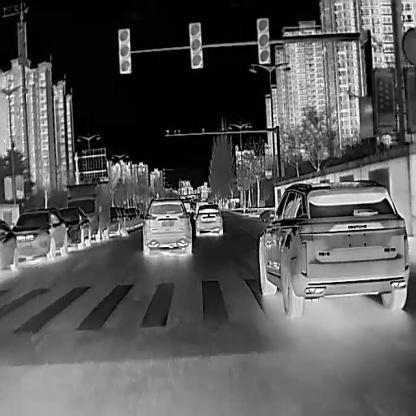car: (257, 177, 410, 318), (10, 205, 67, 261), (138, 195, 191, 253), (65, 180, 109, 240), (55, 204, 89, 247), (192, 202, 222, 235), (109, 205, 121, 234), (123, 206, 139, 223)
